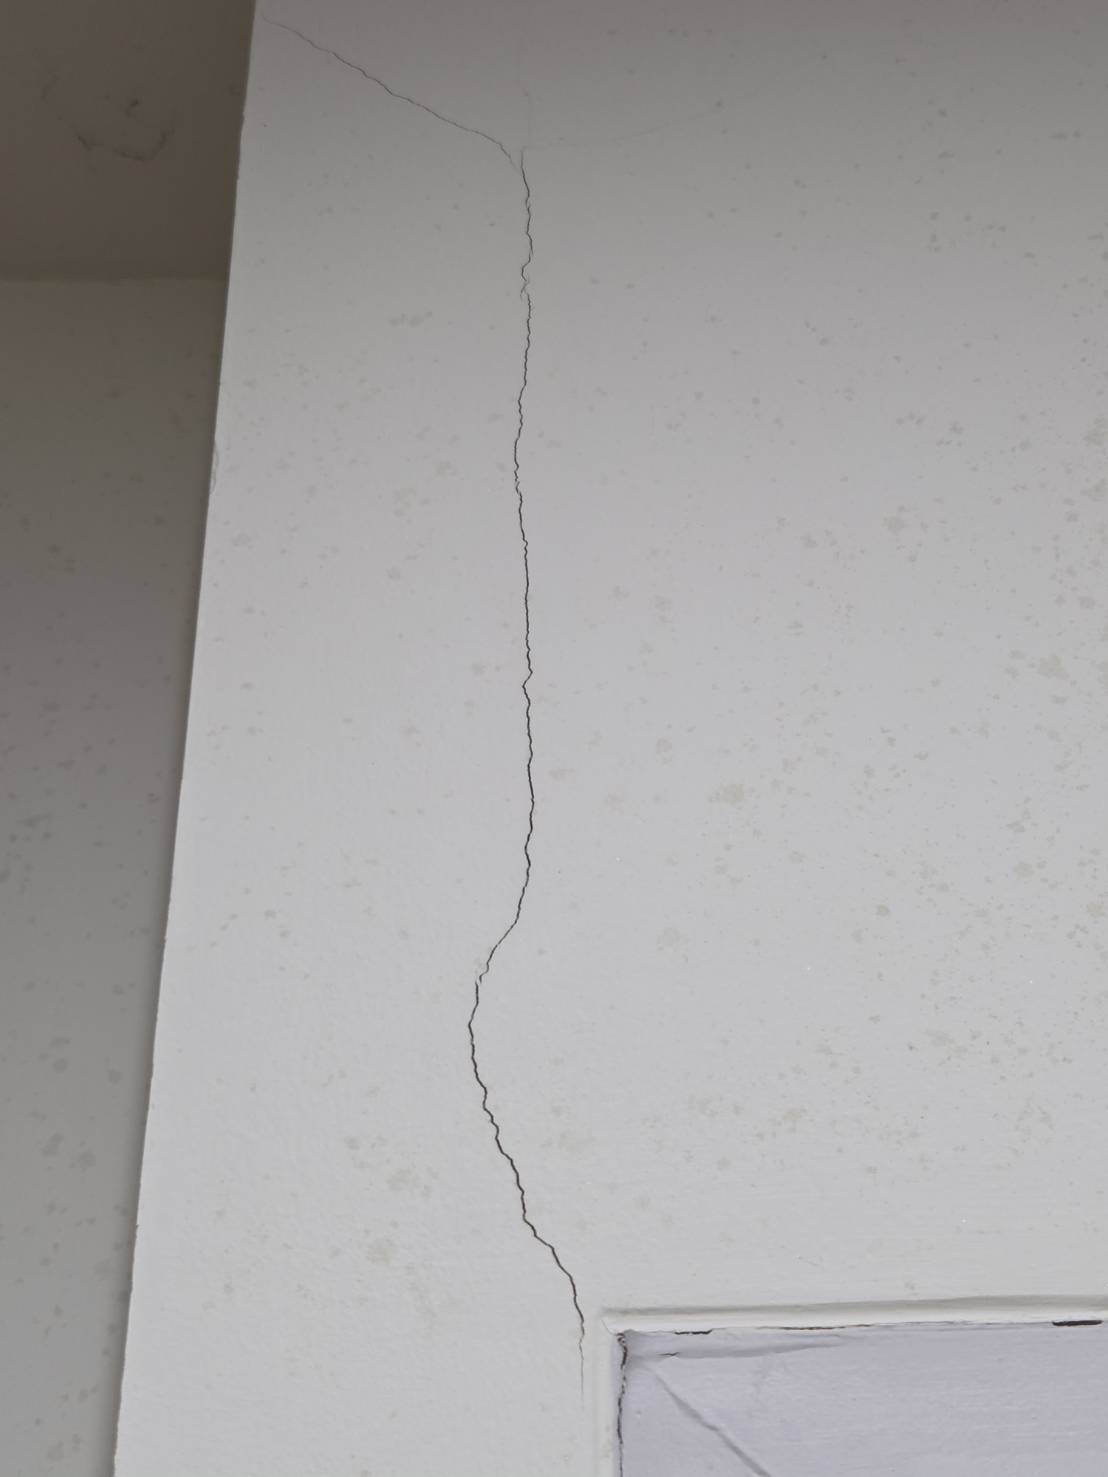Low: (251, 6, 677, 1416)
